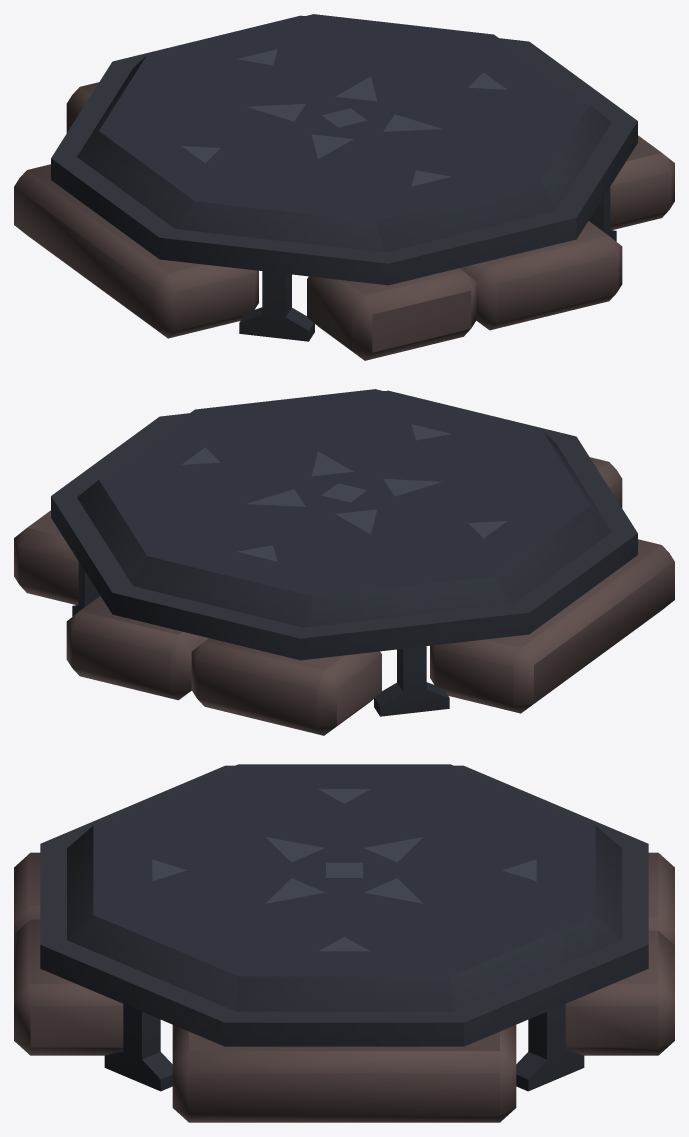
File: landingpad_large.glb
3 renders of one model, top to bottom at view 1: azimuth 30°, elevation 25°; view 2: azimuth 150°, elevation 25°; view 3: azimuth 270°, elevation 25°, orthographic. The views are drawn at different scales.
Visible parts, largest first — view 1: landingpad_large; view 2: landingpad_large; view 3: landingpad_large.
Part boxes in pixels (<box>): landingpad_large: <box>14,14,674,360</box>; landingpad_large: <box>14,389,674,735</box>; landingpad_large: <box>14,764,674,1122</box>.
Size of the model in its own units: 2.5 by 0.5 by 2.5.
1 material, 1 textured.
